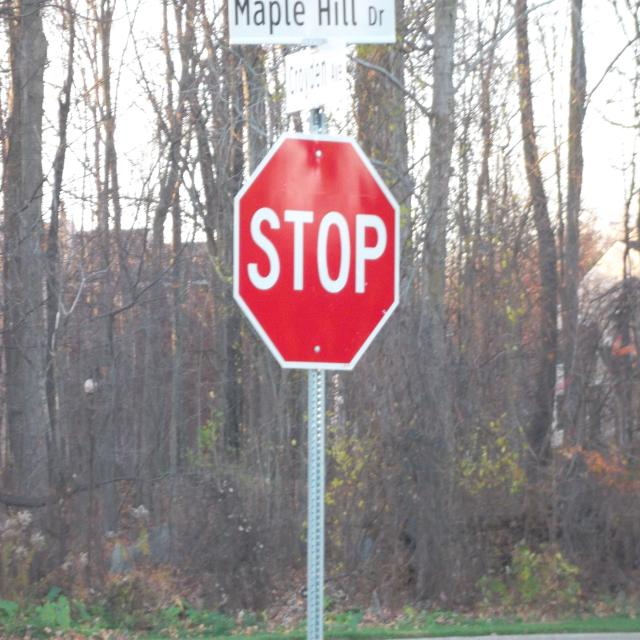stop: (230, 127, 404, 376)
